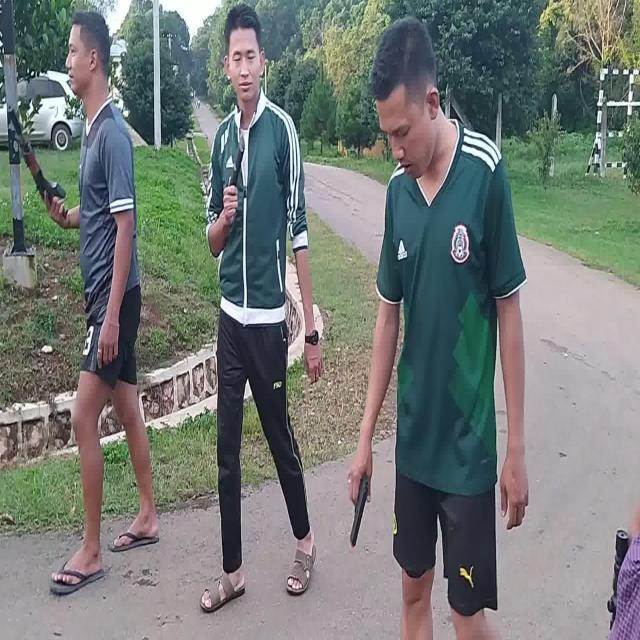gun: (11, 109, 69, 220), (352, 475, 368, 546)
